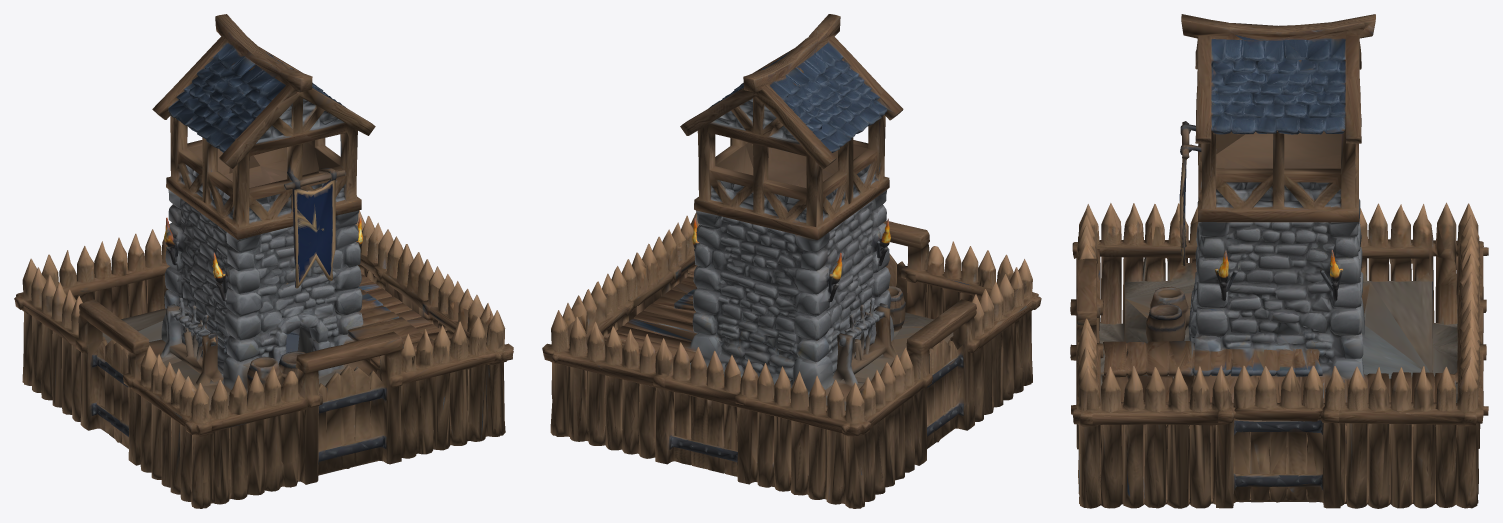
Rendered from landmark_watchfort_lod0.glb.
3 views of the same model, side by side, from view 1: azimuth 30°, elevation 25°; view 2: azimuth 150°, elevation 25°; view 3: azimuth 270°, elevation 25° (orthographic). The views are drawn at different scales.
Parts seen in each view (by area): view 1: Mesh_0; view 2: Mesh_0; view 3: Mesh_0.
Boxes of the visible parts, bbox=[...] form: Mesh_0: bbox=[14, 14, 513, 508]; Mesh_0: bbox=[542, 14, 1041, 508]; Mesh_0: bbox=[1070, 14, 1488, 508].
Size of the model in its own units: 1.79 by 1.9 by 1.77.
1 material, 1 textured.
